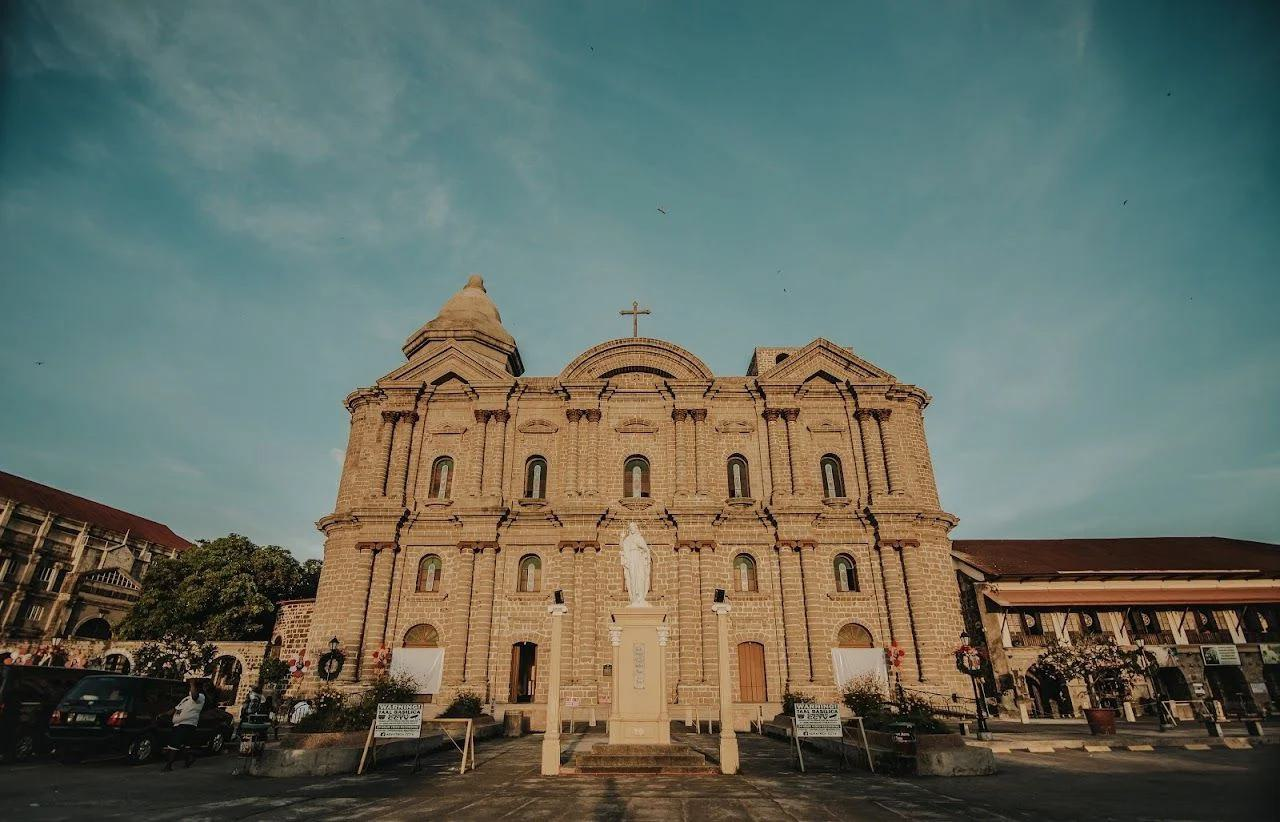taal_basilica_church_taal_batangas: (299, 258, 972, 731)
